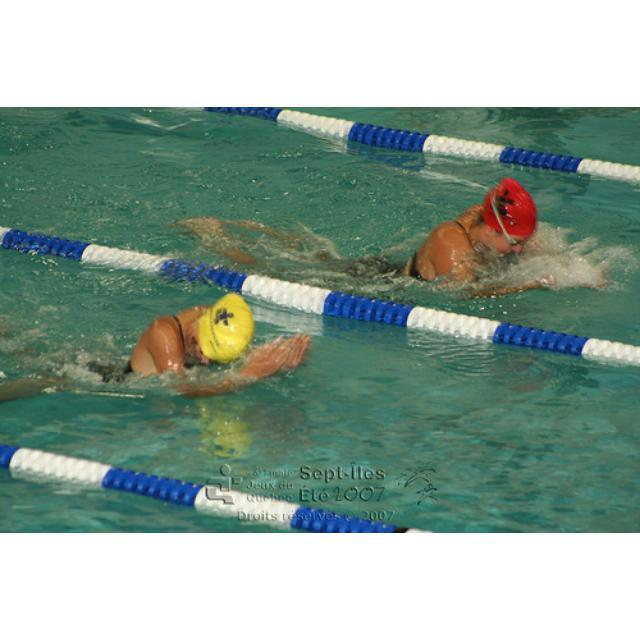human: (101, 293, 310, 394), (397, 179, 540, 301)
